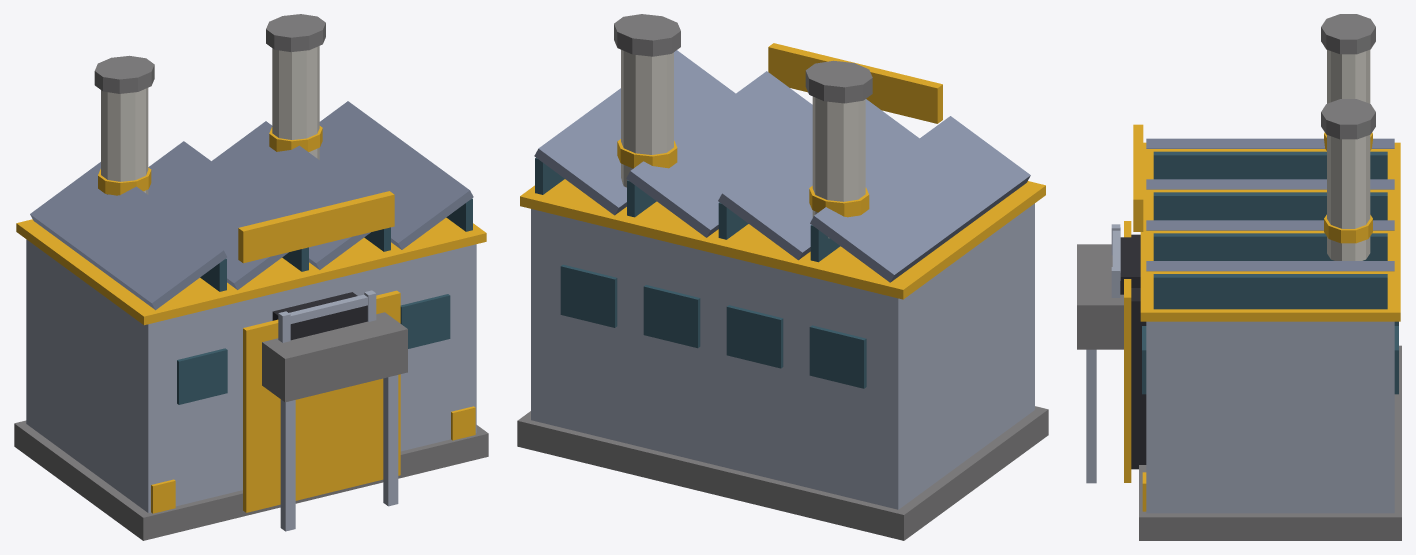
The model's file is factory.glb.
3 renders of one model, left to right at view 1: azimuth 30°, elevation 25°; view 2: azimuth 150°, elevation 25°; view 3: azimuth 270°, elevation 25°, orthographic. The views are drawn at different scales.
Parts seen in each view (by area): view 1: factory; view 2: factory; view 3: factory.
Boxes of the visible parts, x1=… form: factory: x1=14, y1=14, x2=488, y2=540; factory: x1=517, y1=14, x2=1048, y2=540; factory: x1=1077, y1=14, x2=1401, y2=540.
Size of the model in its own units: 2.5 by 2.61 by 2.
